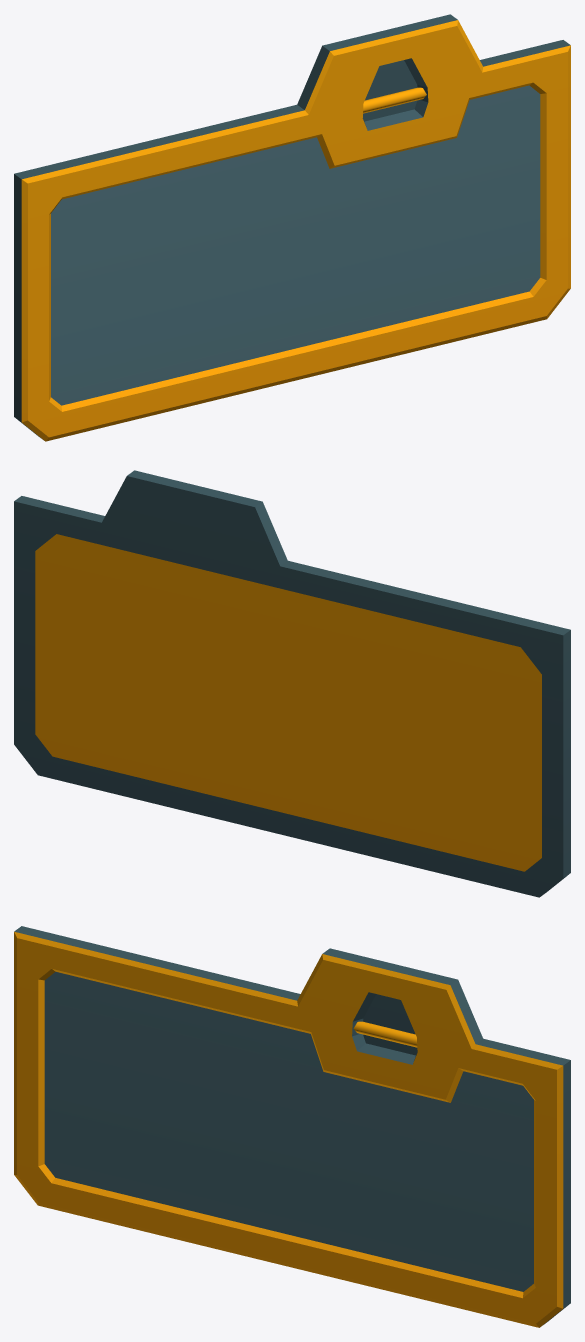
File: Container_type_A_door_005.fbx
The picture shows the model from 3 angles, top to bottom: view 1: azimuth 30°, elevation 25°; view 2: azimuth 150°, elevation 25°; view 3: azimuth 330°, elevation 25°; orthographic projection.
Visible parts, largest first — view 1: Container_type_A_door_005; view 2: Container_type_A_door_005; view 3: Container_type_A_door_005.
Boxes of the visible parts, x1=… form: Container_type_A_door_005: x1=14, y1=14, x2=570, y2=441; Container_type_A_door_005: x1=14, y1=470, x2=570, y2=897; Container_type_A_door_005: x1=14, y1=926, x2=570, y2=1327.
Bounding box in the file's own units: 206 × 6 × 115.
